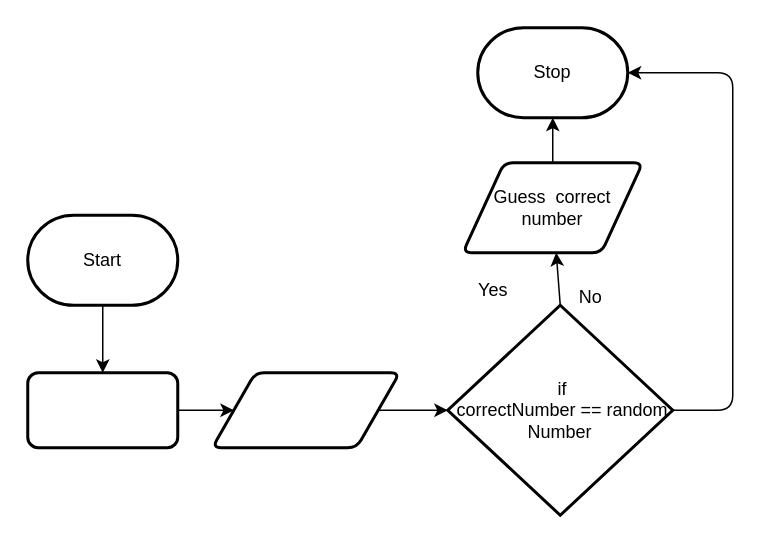
The diagram is 771 pixels wide and 542 high, and some of its shapes have lost their labels. Each missing label, with the centre of its shape:
"Get correct number" belongs at (x=305, y=409).
"random number" belongs at (x=102, y=409).
